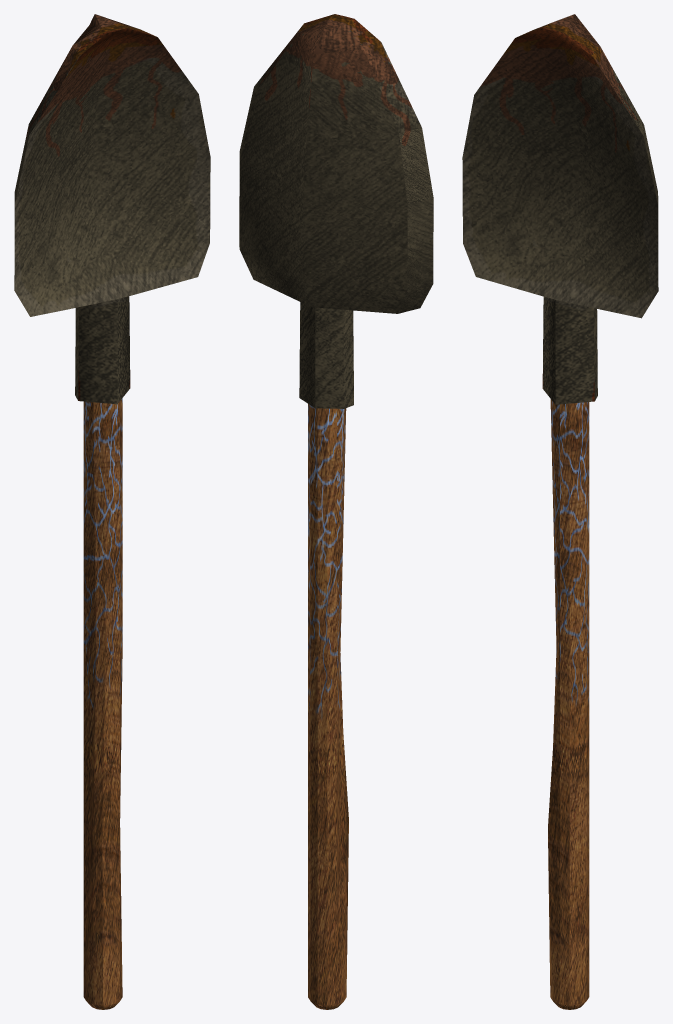
The model's file is shovelmodeltest (1).fbx.
3 renders of one model, left to right at view 1: azimuth 30°, elevation 25°; view 2: azimuth 150°, elevation 25°; view 3: azimuth 330°, elevation 25°, orthographic.
Parts seen in each view (by area): view 1: ShovelHead, ShovelStick; view 2: ShovelHead, ShovelStick; view 3: ShovelHead, ShovelStick.
Part boxes in pixels (box(x1,y1,x2,y2)): ShovelHead: box(14, 14, 210, 404); ShovelStick: box(83, 398, 122, 1009); ShovelHead: box(239, 14, 433, 408); ShovelStick: box(308, 404, 348, 1009); ShovelHead: box(462, 14, 658, 404); ShovelStick: box(548, 399, 589, 1009).
Size of the model in its own units: 31.05 by 150 by 10.72.
Materials: 1 (1 with a texture image).
